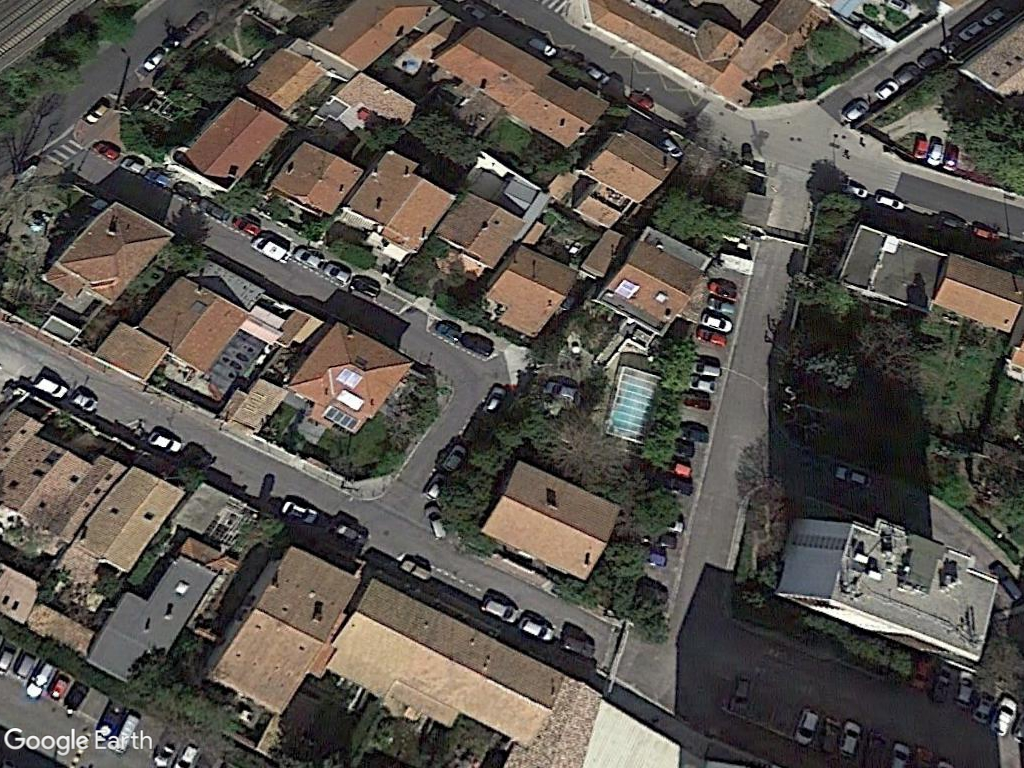car: (480, 592, 521, 625), (518, 613, 556, 642), (561, 632, 598, 661), (400, 556, 435, 582)
